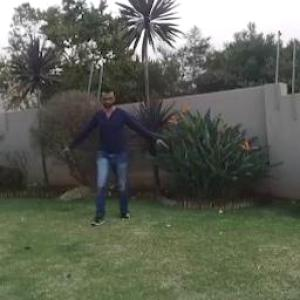land: (62, 75, 181, 225)
